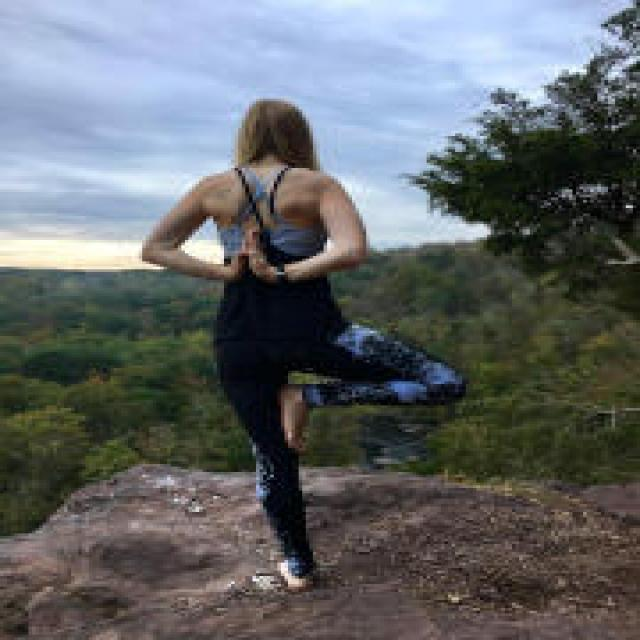yoga-pose tree: (142, 99, 466, 576)
